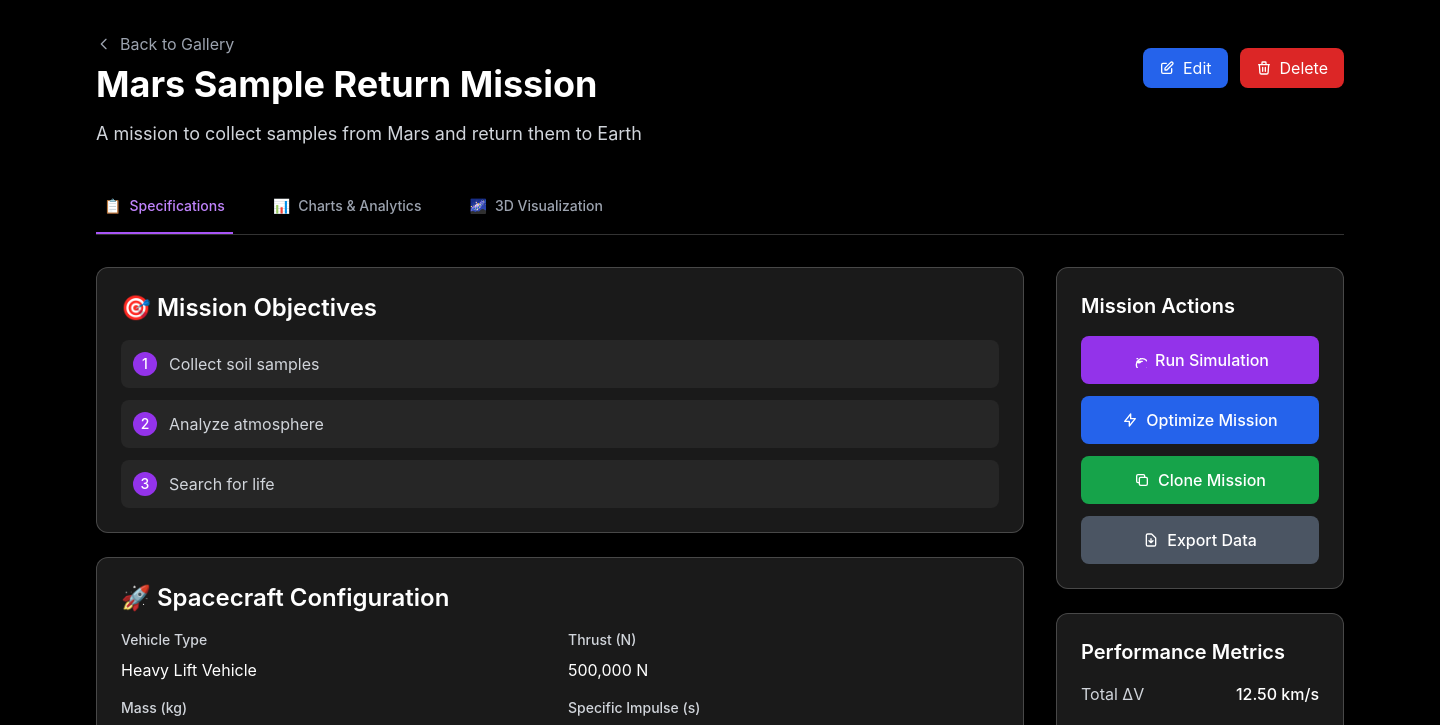
Test case: MissionDetailPage › cancels editing without saving
Enter edit mode
Click the button "Edit": (1185, 68) x1=1143 y1=48 x2=1228 y2=88
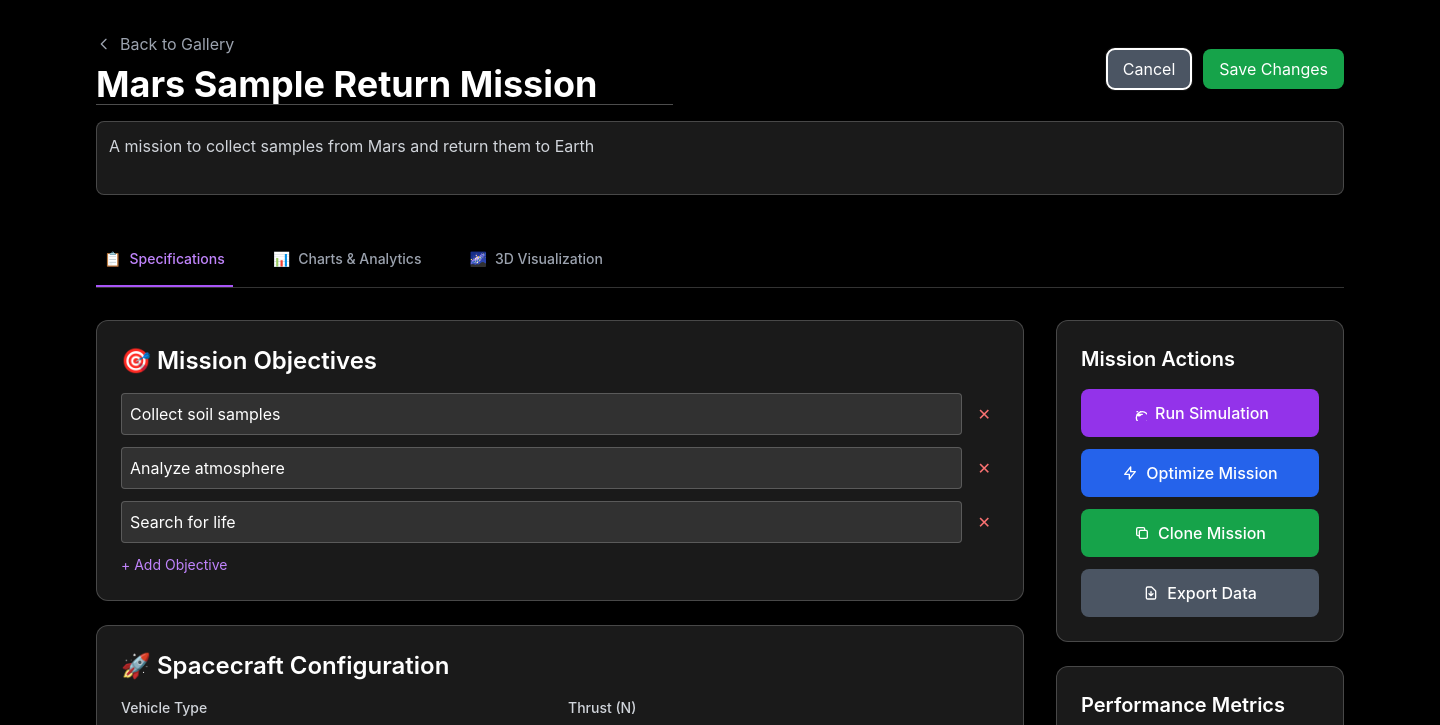
Edit mission name
Replace the text in the 1st field showing "Mars Sample Return Mission" with "Updated Mars Mission": (384, 84) x1=96 y1=64 x2=673 y2=105
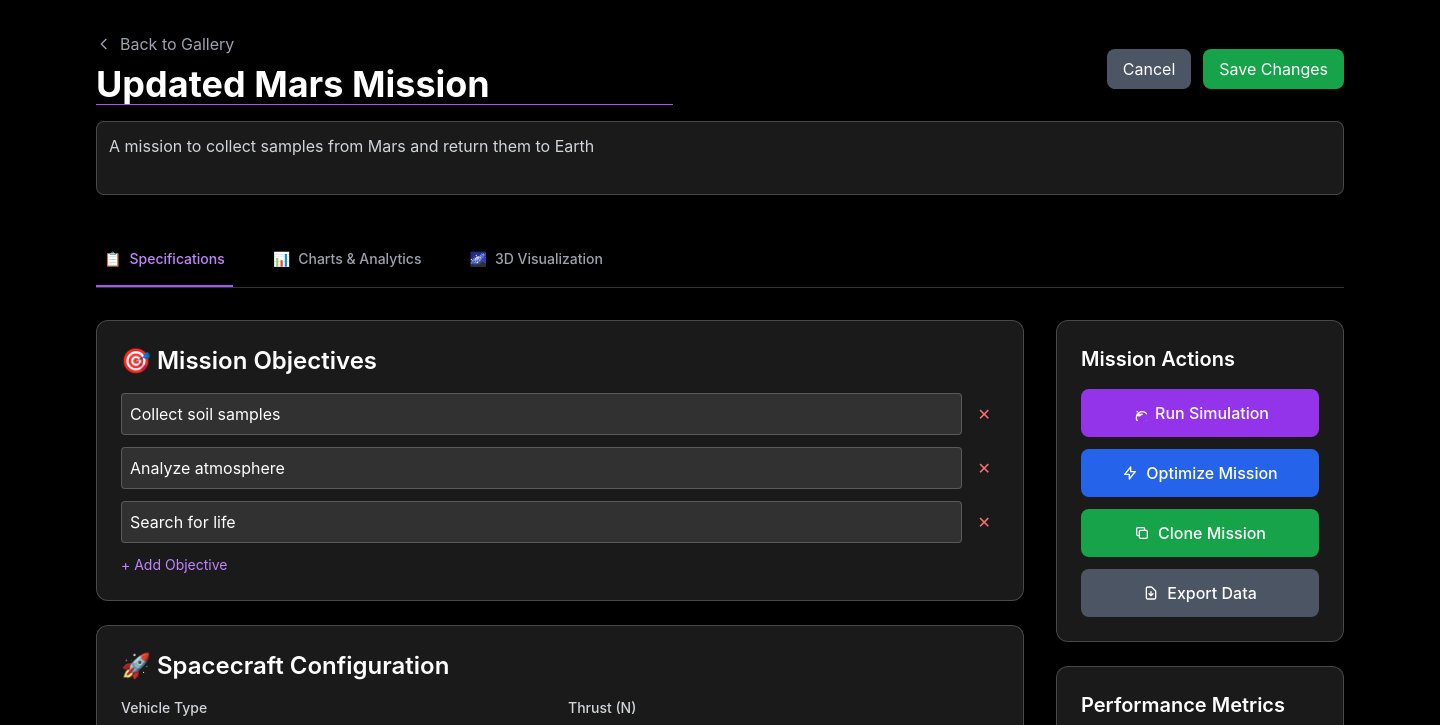
Cancel changes
Click the button "Cancel": (1149, 68) x1=1107 y1=48 x2=1191 y2=88
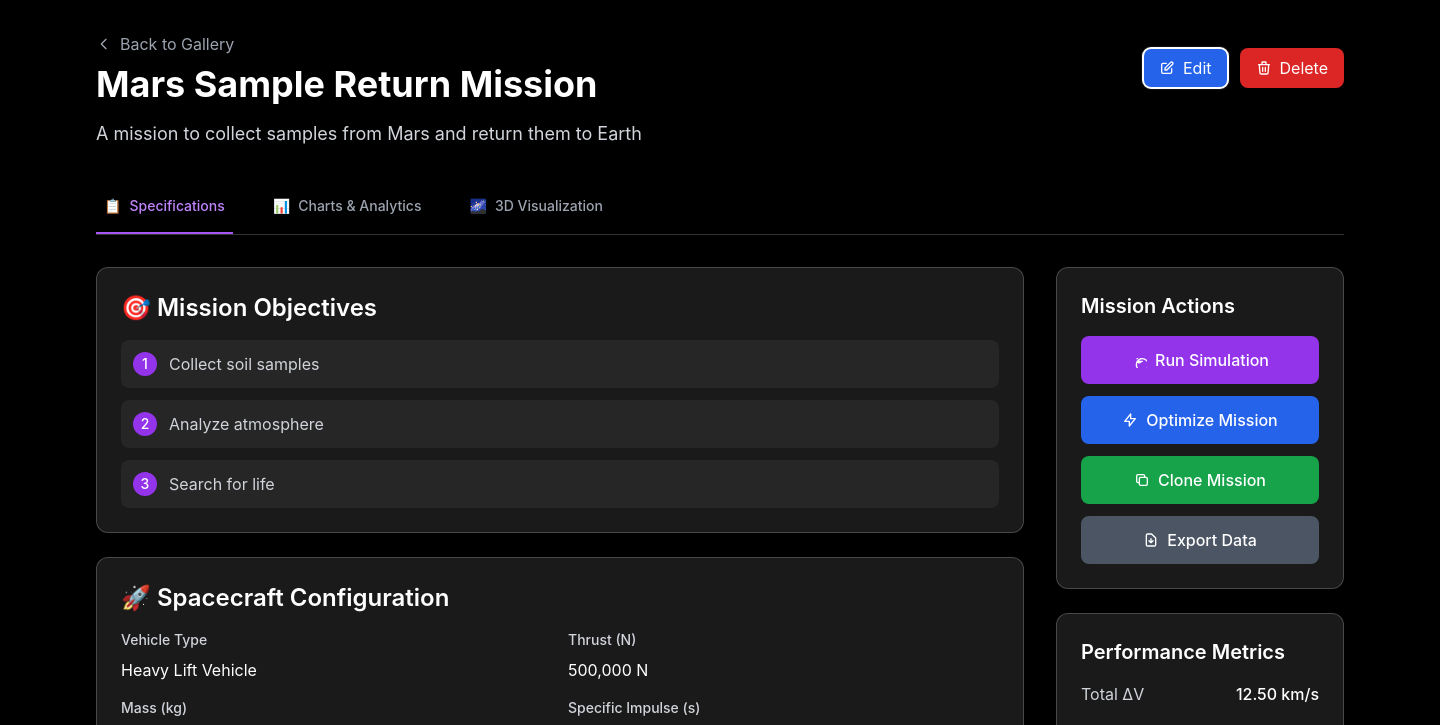
Expected: the field showing "Updated Mars Mission" is not shown
Expected: the heading "Mars Sample Return Mission" is shown, x1=96 y1=64 x2=598 y2=104
Expected: the button "Edit" is shown, x1=1143 y1=48 x2=1228 y2=88
